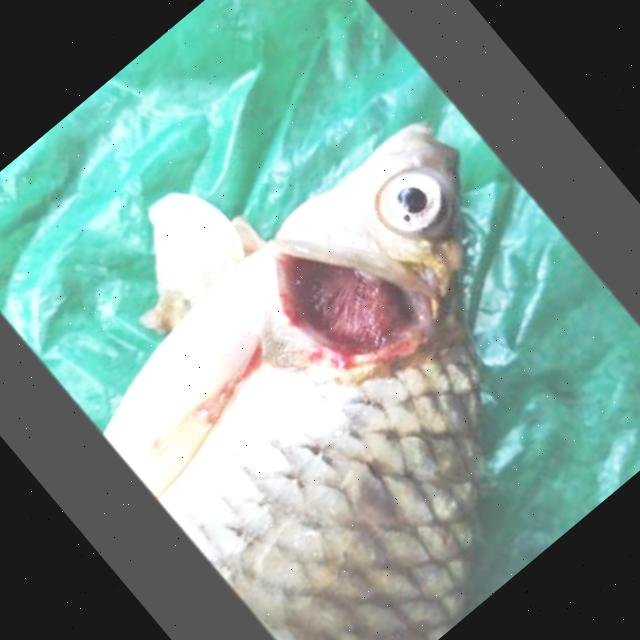Flavobacterium -Bacterial Gill Disease-: (103, 122, 483, 640), (106, 126, 480, 640)
